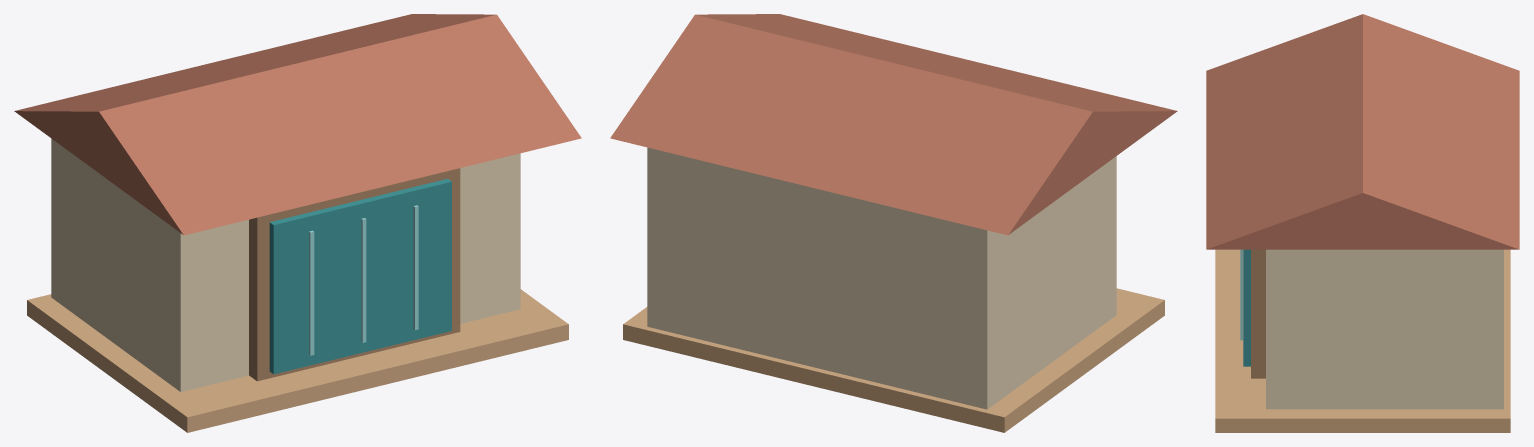
File: env-garage.glb
3 views of the same model, side by side, from view 1: azimuth 30°, elevation 25°; view 2: azimuth 150°, elevation 25°; view 3: azimuth 270°, elevation 25° (orthographic). The views are drawn at different scales.
Parts seen in each view (by area): view 1: garage roof, garage walls, garage door, garage floor, garage door frame, garage door panel.001, garage door panel.002, garage door panel; view 2: garage walls, garage roof, garage floor; view 3: garage roof, garage walls, garage floor, garage door frame, garage door.
Part boxes in pixels (<box>): garage roof: <box>14,14,581,235</box>; garage walls: <box>51,138,520,391</box>; garage door: <box>269,179,451,374</box>; garage floor: <box>27,289,568,432</box>; garage door frame: <box>249,168,460,381</box>; garage door panel.001: <box>361,218,366,342</box>; garage door panel.002: <box>413,205,418,330</box>; garage door panel: <box>309,230,314,355</box>; garage walls: <box>647,147,1116,409</box>; garage roof: <box>610,14,1177,235</box>; garage floor: <box>623,288,1164,432</box>; garage roof: <box>1206,14,1519,249</box>; garage walls: <box>1266,249,1503,409</box>; garage floor: <box>1215,249,1510,432</box>; garage door frame: <box>1251,249,1265,378</box>; garage door: <box>1243,249,1250,366</box>.
Bounding box in the file's own units: 4.8 × 3.05 × 3.55.
